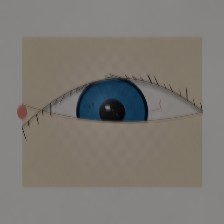pinguecula_lesion: (20, 100, 63, 135)
